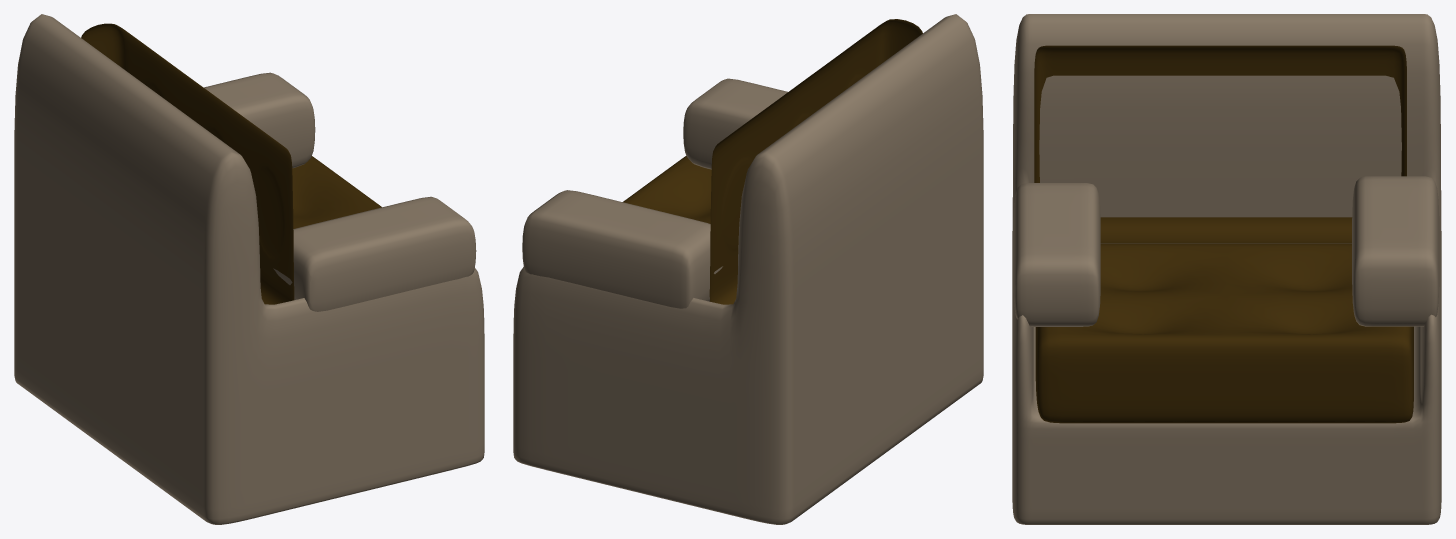
File: chair.fbx
3 views of the same model, side by side, from view 1: azimuth 30°, elevation 25°; view 2: azimuth 150°, elevation 25°; view 3: azimuth 270°, elevation 25° (orthographic). The views are drawn at different scales.
Visible parts, largest first — view 1: Plane, Plane.005, Plane.003, Plane.004, Plane.001; view 2: Plane, Plane.004, Plane.003, Plane.005, Plane.001; view 3: Plane, Plane.001, Plane.003, Plane.004, Plane.005.
Part boxes in pixels (left/top/right/bottom): Plane: left=14, top=14, right=484, bottom=524; Plane.005: left=273, top=196, right=476, bottom=311; Plane.003: left=81, top=23, right=294, bottom=304; Plane.004: left=204, top=72, right=315, bottom=168; Plane.001: left=292, top=156, right=381, bottom=228; Plane: left=513, top=14, right=983, bottom=524; Plane.004: left=522, top=190, right=722, bottom=308; Plane.003: left=709, top=19, right=922, bottom=304; Plane.005: left=683, top=78, right=787, bottom=169; Plane.001: left=623, top=155, right=711, bottom=223; Plane: left=1012, top=14, right=1441, bottom=524; Plane.001: left=1035, top=244, right=1413, bottom=423; Plane.003: left=1034, top=45, right=1406, bottom=243; Plane.004: left=1352, top=176, right=1439, bottom=326; Plane.005: left=1013, top=183, right=1100, bottom=326.
Bounding box in the file's own units: 207 × 255 × 258.
